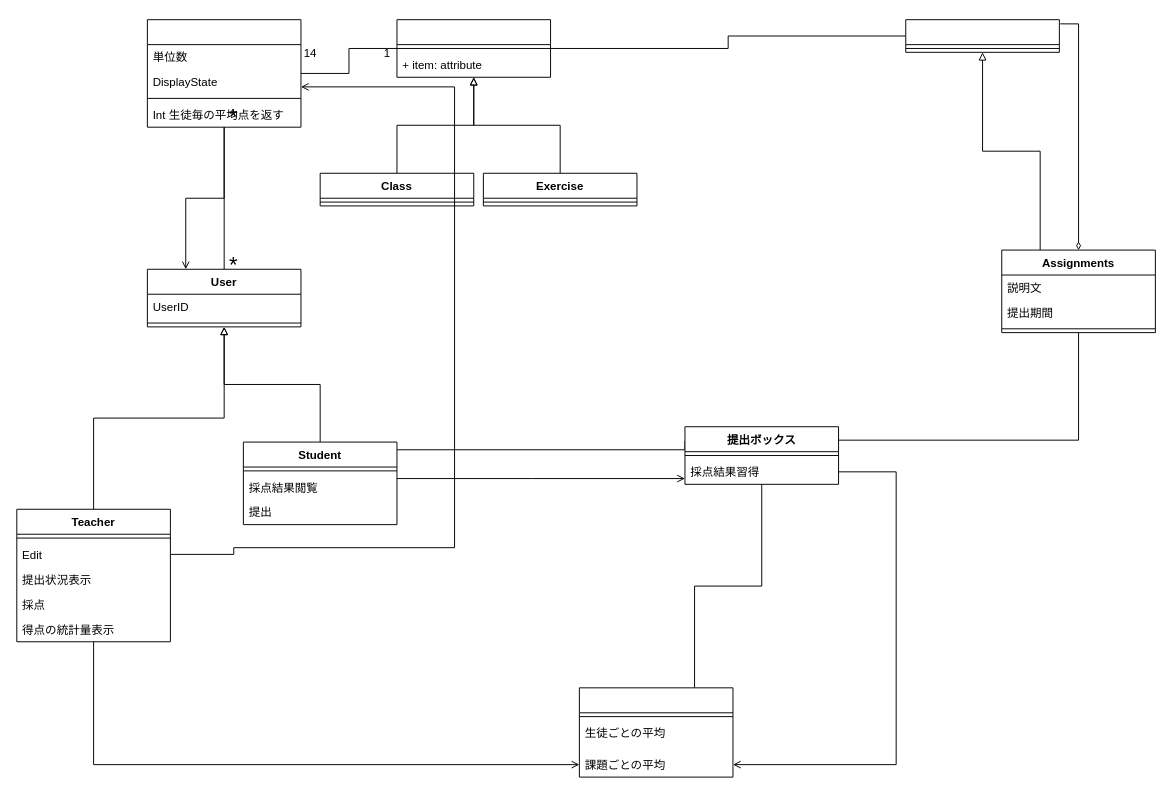
The diagram is 1172 pixels wide and 797 high, and some of its shapes have lost their labels. Here are the shapes that lost their labels. From the top down, the box of each, then its label:
(396, 19, 551, 77): Lecture
(905, 19, 1059, 52): Contents
(146, 19, 301, 127): Course
(578, 687, 733, 777): 課題関連システム
